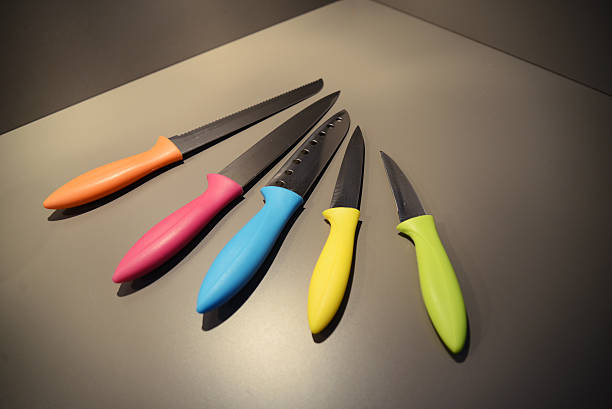knife: (109, 88, 343, 284), (40, 77, 324, 214), (194, 107, 352, 315), (377, 150, 471, 356), (305, 123, 367, 337)
